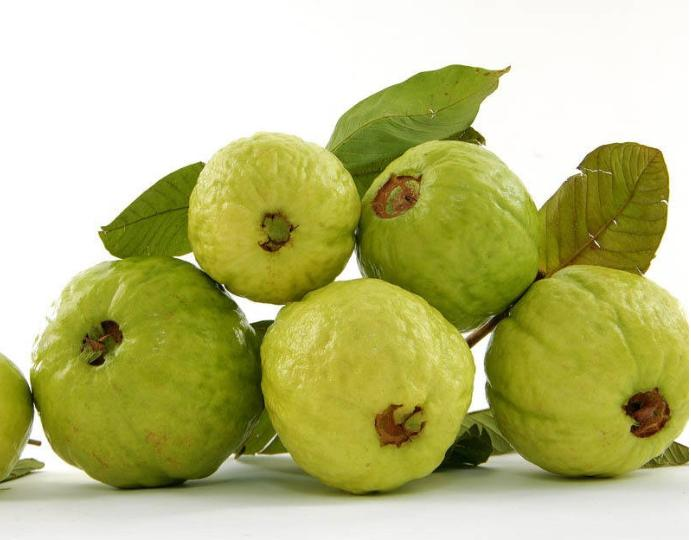guava_A: (260, 278, 477, 493), (484, 264, 691, 477), (357, 140, 543, 333), (186, 133, 362, 306)
guava_B: (30, 256, 261, 487)
